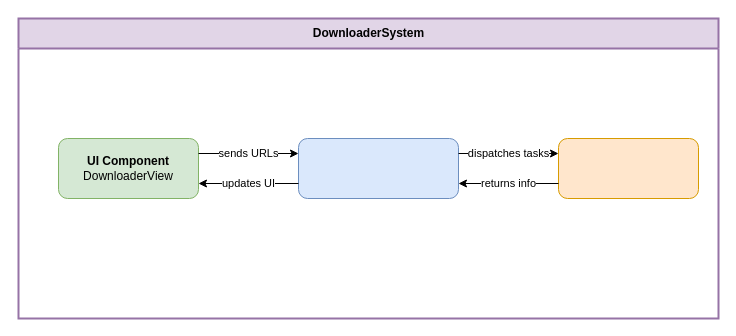
Image size: 736x336. Some labels were removed from this diagram. Here are the shapes that lost their labels. From the top down, the centre of each, then its label:
point 378,168: CoreLogic Component DownloaderController PlaylistState
point 628,168: ExternalIntegrations yt-dlp (Extractor) IDM
